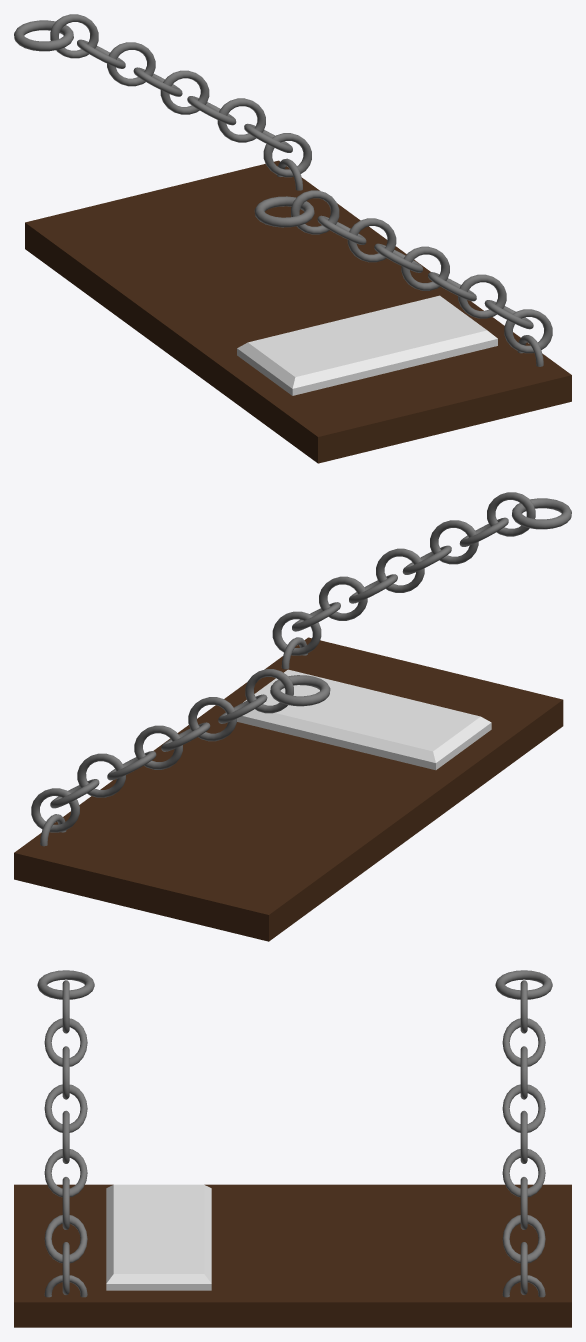
The model's file is Bed.fbx.
The picture shows the model from 3 angles, top to bottom: view 1: azimuth 30°, elevation 25°; view 2: azimuth 150°, elevation 25°; view 3: azimuth 270°, elevation 25°; orthographic projection. The views are drawn at different scales.
Visible parts, largest first — view 1: pCube1, pTorus3, pTorus4, pTorus17, pTorus12, pTorus21, pTorus15, pTorus16, pTorus22, pTorus19, pTorus11, pTorus6 (+1 smaller); view 2: pCube1, pTorus4, pTorus3, pTorus22, pTorus15, pTorus17, pTorus21, pTorus12, pTorus11, pTorus16, pTorus19, pTorus6 (+1 smaller); view 3: pCube1, pTorus3, pTorus4, pTorus7, pTorus8, pTorus9, pTorus10, pTorus18, pTorus20, pTorus13, pTorus14.
Boxes of the visible parts, <box> form: pCube1: <box>25,160,571,463</box>; pTorus3: <box>14,20,73,51</box>; pTorus4: <box>254,196,314,227</box>; pTorus17: <box>160,70,209,114</box>; pTorus12: <box>347,218,396,262</box>; pTorus21: <box>263,133,311,177</box>; pTorus15: <box>217,98,265,142</box>; pTorus16: <box>458,274,506,318</box>; pTorus22: <box>504,309,552,353</box>; pTorus19: <box>401,246,449,290</box>; pTorus11: <box>107,42,155,86</box>; pTorus6: <box>291,190,339,234</box>; pCube1: <box>14,637,563,941</box>; pTorus4: <box>512,498,571,529</box>; pTorus3: <box>270,675,330,706</box>; pTorus22: <box>272,611,321,655</box>; pTorus15: <box>77,753,125,797</box>; pTorus17: <box>134,725,182,769</box>; pTorus21: <box>31,788,79,832</box>; pTorus12: <box>430,520,478,564</box>; pTorus11: <box>188,697,236,741</box>; pTorus16: <box>319,576,367,620</box>; pTorus19: <box>376,548,424,592</box>; pTorus6: <box>487,492,535,536</box>; pCube1: <box>14,1184,571,1327</box>; pTorus3: <box>495,970,552,999</box>; pTorus4: <box>37,970,94,999</box>; pTorus7: <box>502,1018,545,1066</box>; pTorus8: <box>44,1018,87,1066</box>; pTorus9: <box>502,1084,545,1132</box>; pTorus10: <box>44,1084,87,1132</box>; pTorus18: <box>502,1149,545,1197</box>; pTorus20: <box>44,1149,87,1197</box>; pTorus13: <box>502,1215,545,1263</box>; pTorus14: <box>44,1215,87,1263</box>.
Size of the model in its own units: 2.31 by 1.87 by 4.
